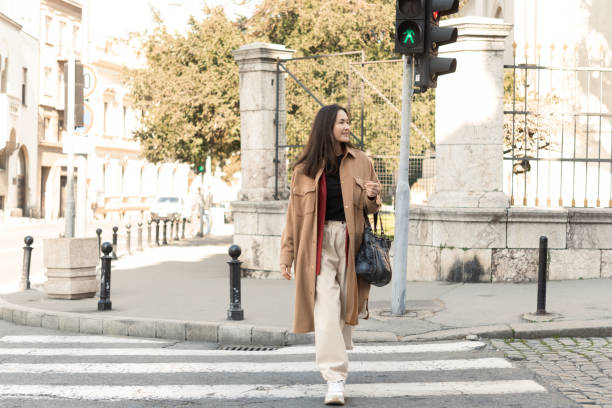yaya: (273, 94, 389, 407)
